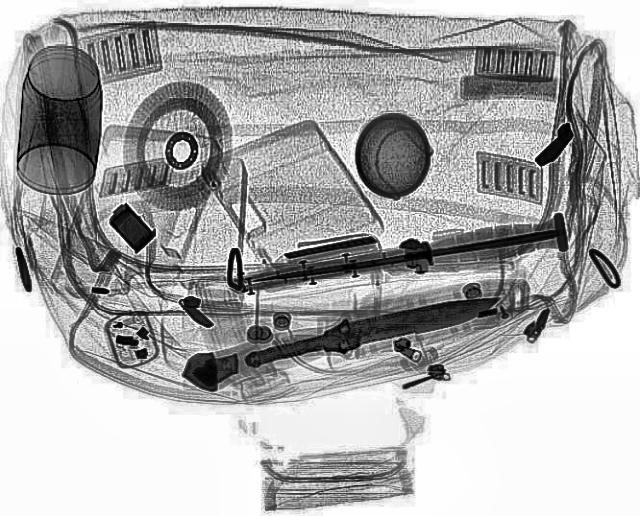Knife: (245, 213, 570, 299), (238, 283, 504, 375)
